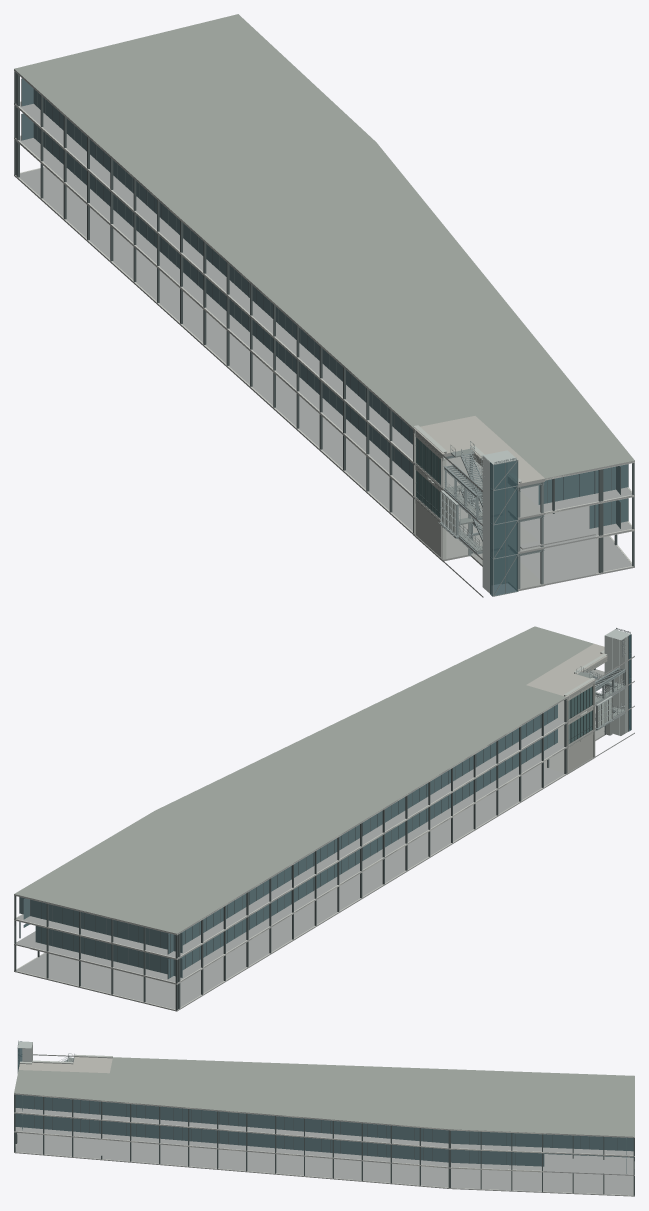
The model's file is d11-miyashita-south.glb.
3 views of the same model, one above another, from view 1: azimuth 30°, elevation 25°; view 2: azimuth 150°, elevation 25°; view 3: azimuth 270°, elevation 25° (orthographic). The views are drawn at different scales.
Parts seen in each view (by area): view 1: SOUTH_INFERRED_neutral_concrete, tower_Circulation opaque tower glazing; view 2: SOUTH_INFERRED_neutral_concrete; view 3: SOUTH_INFERRED_neutral_concrete.
Boxes of the visible parts, bbox=[...] form: SOUTH_INFERRED_neutral_concrete: bbox=[14, 14, 634, 597]; tower_Circulation opaque tower glazing: bbox=[491, 460, 517, 595]; SOUTH_INFERRED_neutral_concrete: bbox=[14, 626, 634, 1011]; SOUTH_INFERRED_neutral_concrete: bbox=[14, 1040, 634, 1196].
Bounding box in the file's own units: 51.65 × 21.95 × 163.
Materials: 2 (1 with a texture image).
